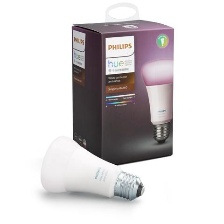book: (66, 16, 182, 170)
light_bulb: (0, 125, 146, 203)
